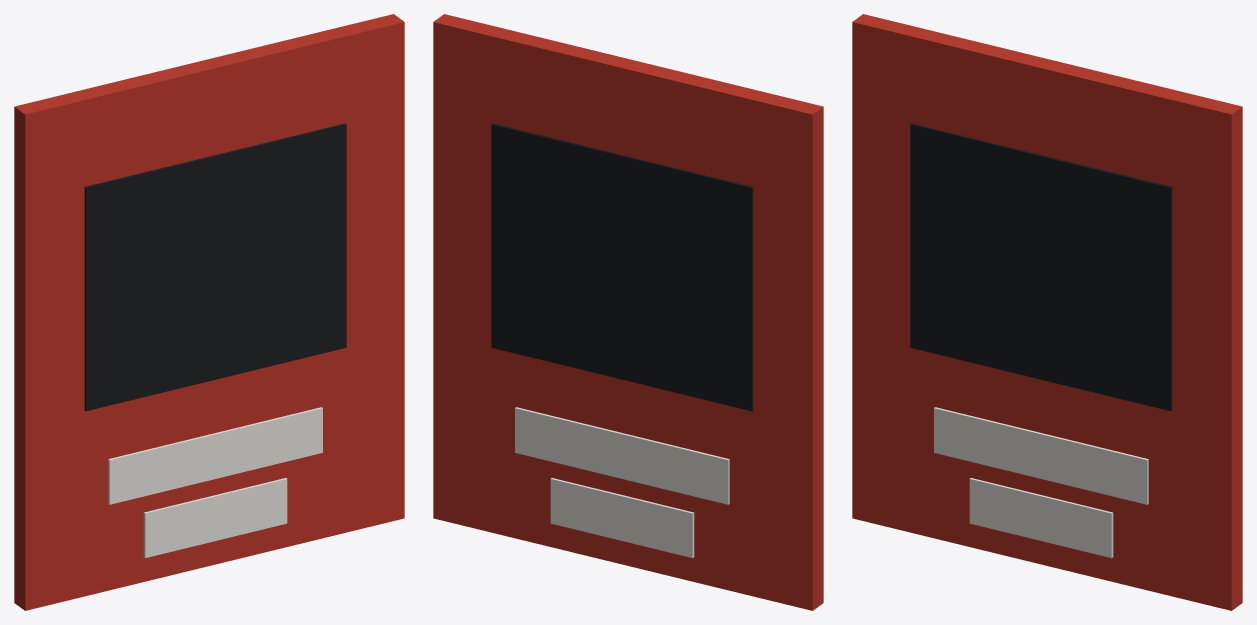
The model's file is Poster_Red.fbx.
3 renders of one model, left to right at view 1: azimuth 30°, elevation 25°; view 2: azimuth 150°, elevation 25°; view 3: azimuth 330°, elevation 25°, orthographic.
Visible parts, largest first — view 1: Poster_Red_Mesh; view 2: Poster_Red_Mesh; view 3: Poster_Red_Mesh.
Part boxes in pixels (x1,y1,x2,y2): Poster_Red_Mesh: (14,14,404,610); Poster_Red_Mesh: (433,14,823,610); Poster_Red_Mesh: (852,14,1242,610).
Size of the model in its own units: 1.6 by 2 by 0.1.
1 material, 1 textured.
